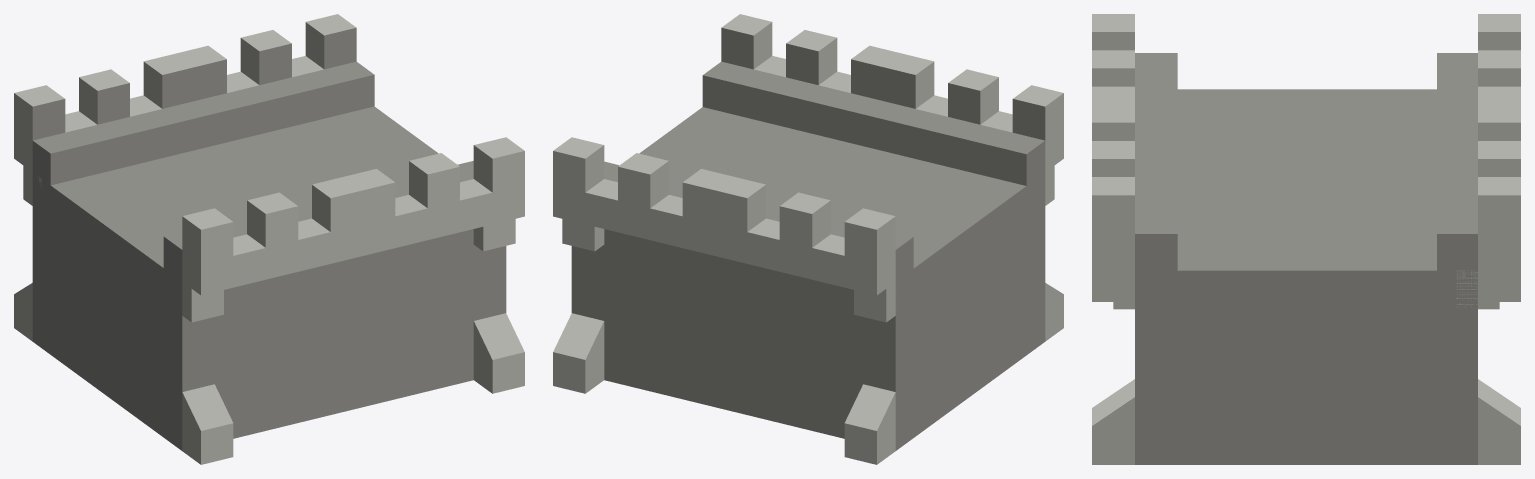
Rendered from 1x1x5_twosided.fbx.
3 views of the same model, side by side, from view 1: azimuth 30°, elevation 25°; view 2: azimuth 150°, elevation 25°; view 3: azimuth 270°, elevation 25° (orthographic). The views are drawn at different scales.
Visible parts, largest first — view 1: polySurface10; view 2: polySurface10; view 3: polySurface10.
Part boxes in pixels (x1,y1,x2,y2): polySurface10: (14, 14, 524, 464); polySurface10: (553, 14, 1063, 464); polySurface10: (1092, 14, 1520, 464).
Bounding box in the file's own units: 100 × 69.38 × 100.
1 material, 1 textured.
